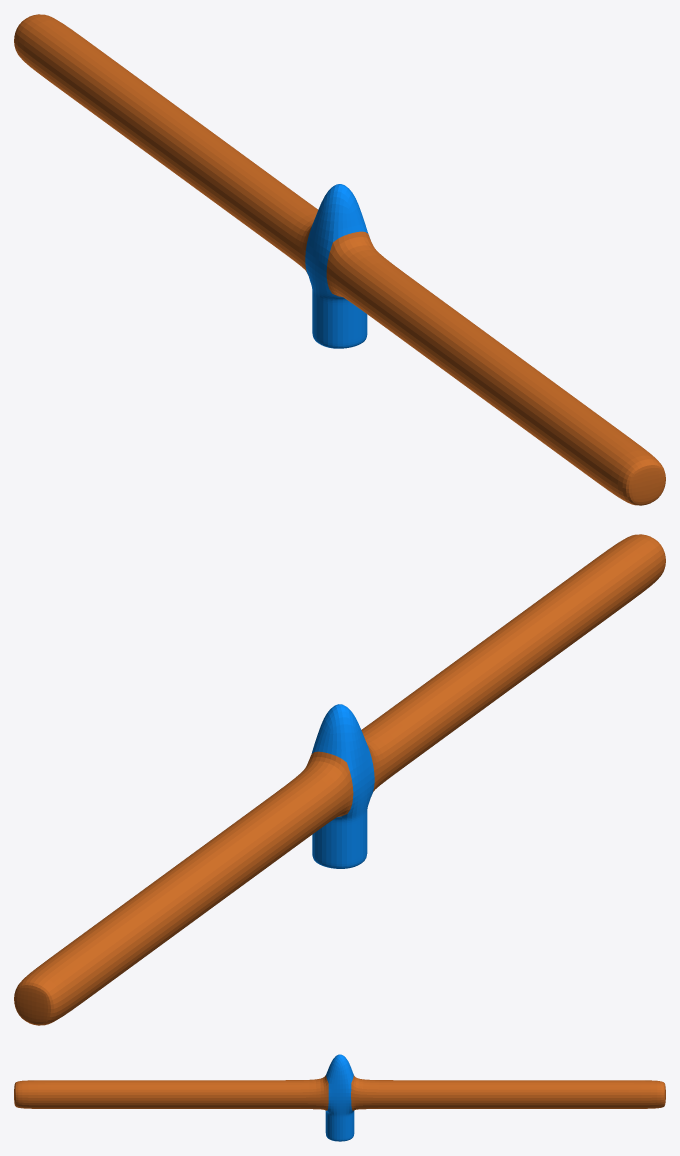
File: spinner.gltf
3 views of the same model, one above another, from view 1: azimuth 30°, elevation 25°; view 2: azimuth 150°, elevation 25°; view 3: azimuth 270°, elevation 25° (orthographic). The views are drawn at different scales.
Visible parts, largest first — view 1: Cube; view 2: Cube; view 3: Cube.
Part boxes in pixels (box(x1,y1,x2,y2)): Cube: box(14, 14, 665, 505); Cube: box(14, 534, 665, 1025); Cube: box(14, 1054, 665, 1141).
Bounding box in the file's own units: 0.9741 × 2.91 × 20.97.
1 material, 1 textured.
